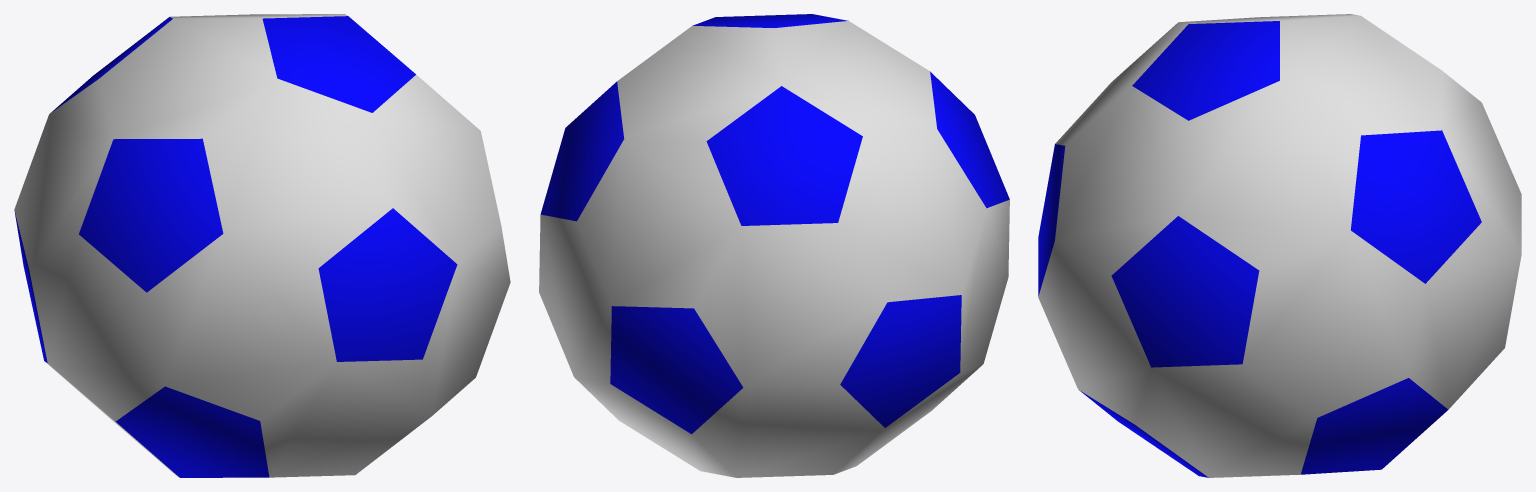
Rendered from blueBall.glb.
The picture shows the model from 3 angles, left to right: view 1: azimuth 30°, elevation 25°; view 2: azimuth 150°, elevation 25°; view 3: azimuth 270°, elevation 25°; orthographic projection. The views are drawn at different scales.
Visible parts, largest first — view 1: blueBall; view 2: blueBall; view 3: blueBall.
Boxes of the visible parts, box(x1,y1,x2,y2) form: blueBall: box(14, 14, 510, 477); blueBall: box(539, 14, 1009, 477); blueBall: box(1038, 14, 1521, 477).
Size of what is drawn, in the model's own units: 1.97 by 2 by 1.95.
